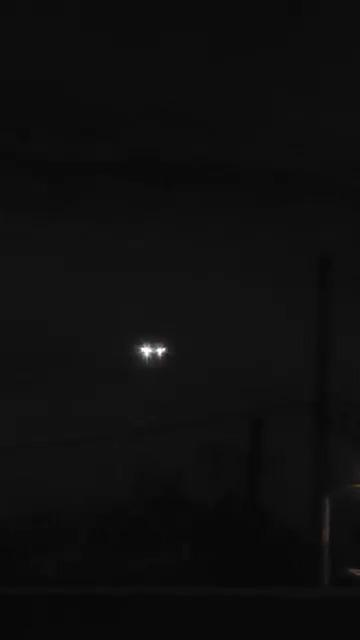Plane: (113, 304, 189, 397)
